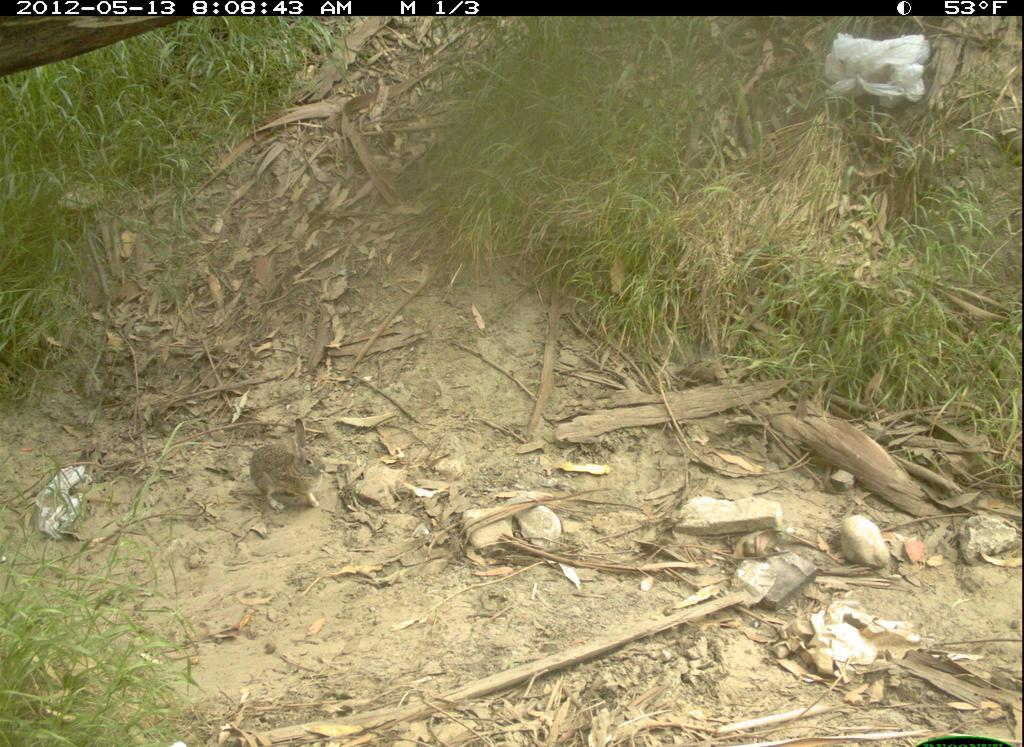rabbit: (241, 413, 337, 528)
